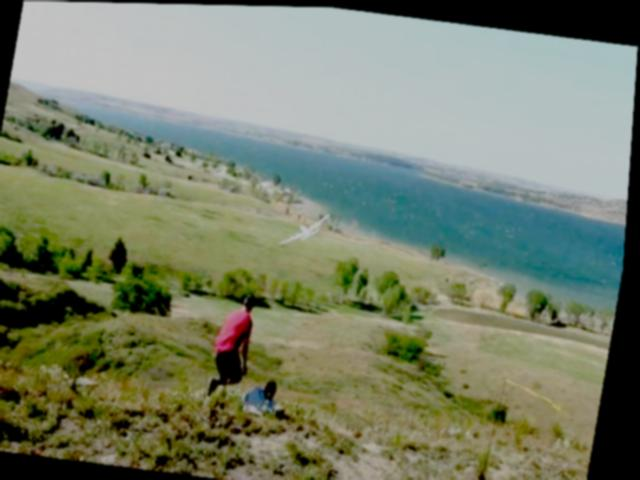iha: (280, 205, 334, 248)
